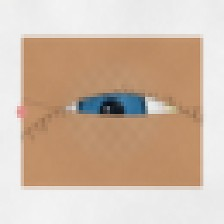pinguecula_lesion: (153, 87, 202, 126)
